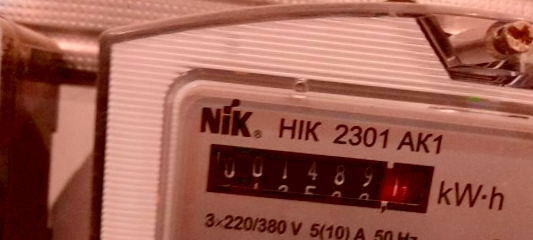0: (247, 151, 265, 177), (220, 153, 237, 179)
1: (276, 152, 292, 183), (387, 168, 401, 199)
4: (303, 156, 321, 183)
8: (329, 158, 348, 186)
9: (358, 162, 375, 189)
screen: (189, 130, 450, 228)
